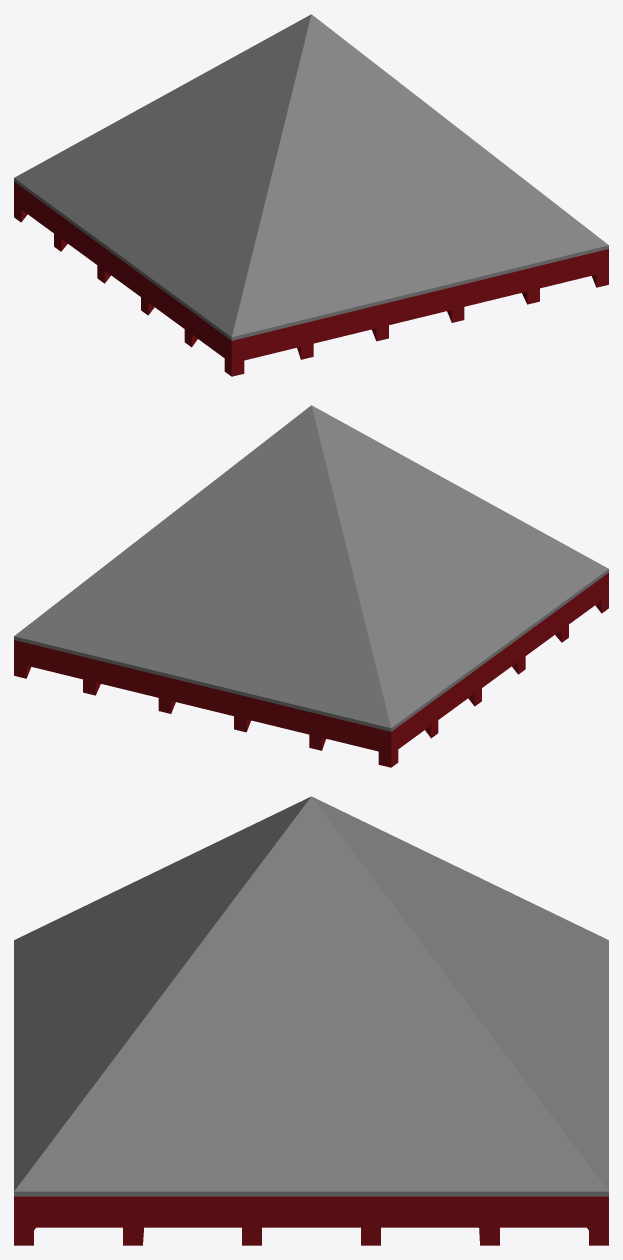
Rendered from SM_MH_01_Slate_Roof_Top_Tip_01.fbx.
3 views of the same model, one above another, from view 1: azimuth 30°, elevation 25°; view 2: azimuth 150°, elevation 25°; view 3: azimuth 270°, elevation 25° (orthographic). The views are drawn at different scales.
Visible parts, largest first — view 1: SM_MH_01_Slate_Roof_Top_Tip_01_LOD0; view 2: SM_MH_01_Slate_Roof_Top_Tip_01_LOD0; view 3: SM_MH_01_Slate_Roof_Top_Tip_01_LOD0.
Part boxes in pixels (x1,y1,x2,y2): SM_MH_01_Slate_Roof_Top_Tip_01_LOD0: [14, 14, 608, 376]; SM_MH_01_Slate_Roof_Top_Tip_01_LOD0: [14, 405, 608, 767]; SM_MH_01_Slate_Roof_Top_Tip_01_LOD0: [14, 796, 608, 1245].
Size of what is drawn, in the model's own units: 300 by 180 by 300.
